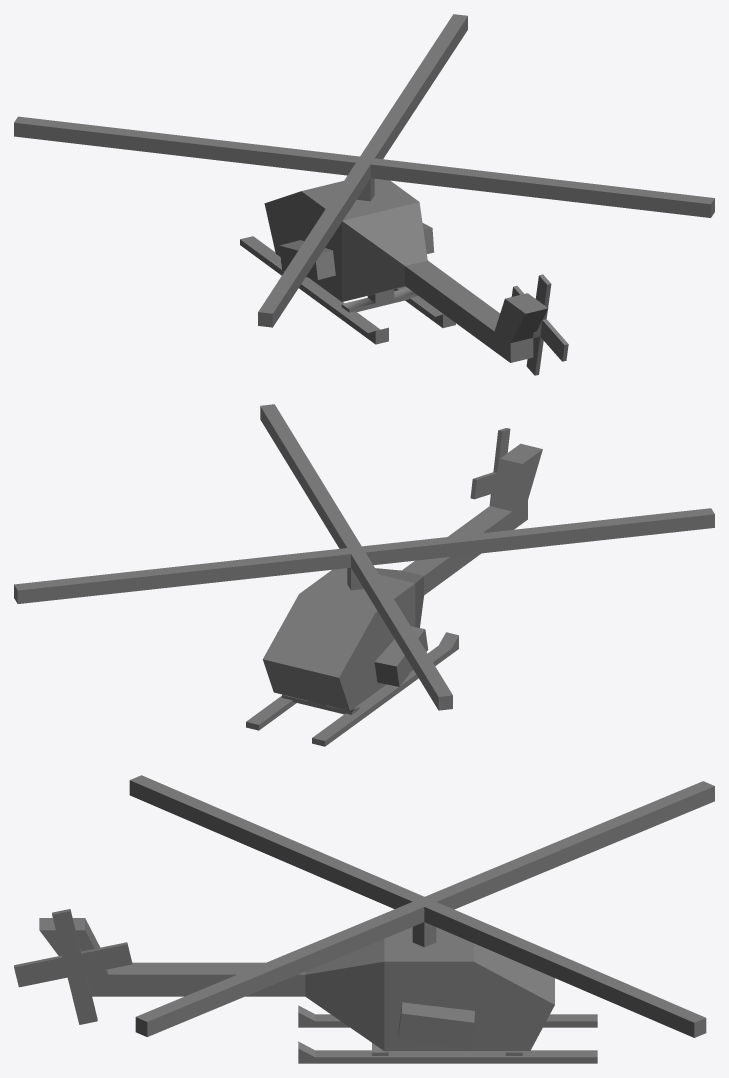
The model's file is Eagle.fbx.
3 views of the same model, one above another, from view 1: azimuth 30°, elevation 25°; view 2: azimuth 150°, elevation 25°; view 3: azimuth 270°, elevation 25° (orthographic). The views are drawn at different scales.
Visible parts, largest first — view 1: base, up, rotate; view 2: base, up, rotate; view 3: base, up, rotate.
Part boxes in pixels (bbox=[...]): base: bbox=[240, 179, 548, 362]; up: bbox=[14, 14, 714, 327]; rotate: bbox=[511, 274, 568, 375]; base: bbox=[246, 443, 542, 746]; up: bbox=[14, 404, 714, 710]; rotate: bbox=[470, 428, 510, 505]; base: bbox=[39, 918, 597, 1063]; up: bbox=[129, 775, 714, 1037]; rotate: bbox=[14, 909, 132, 1024].
Bounding box in the file's own units: 1189 × 322 × 1422.
Materials: 1 (1 with a texture image).
